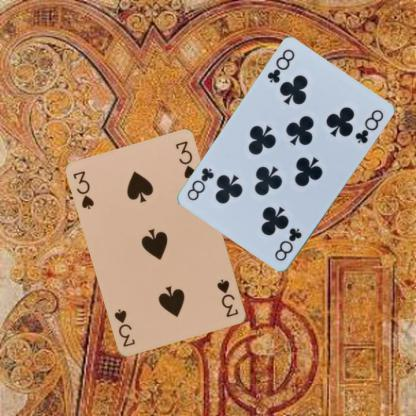3s: (214, 276, 240, 319), (70, 168, 96, 211)
8c: (264, 46, 296, 85), (272, 225, 303, 263)
